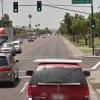Traffic light: (9, 0, 49, 19)
